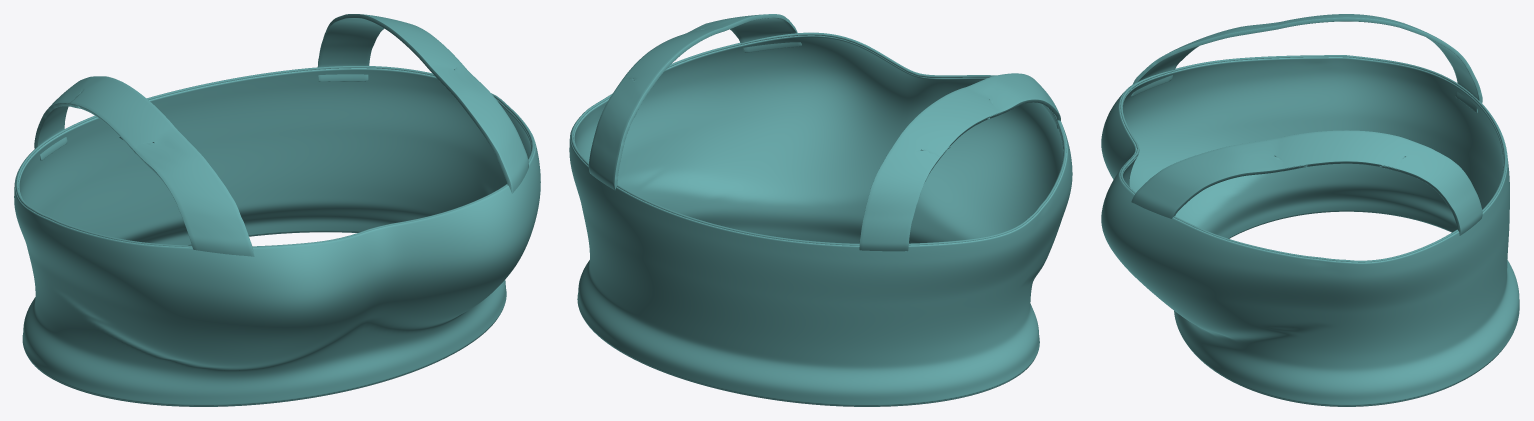
The model's file is Feminine-tank-top.glb.
The picture shows the model from 3 angles, left to right: view 1: azimuth 30°, elevation 25°; view 2: azimuth 150°, elevation 25°; view 3: azimuth 270°, elevation 25°; orthographic projection. The views are drawn at different scales.
Visible parts, largest first — view 1: Clothing / tank body, Clothing / tank strap -1, Clothing / tank strap 1, tank body / bound edge.001 export, tank body / bound edge export; view 2: Clothing / tank body, Clothing / tank strap -1, Clothing / tank strap 1, tank body / bound edge.001 export, tank body / bound edge export; view 3: Clothing / tank body, Clothing / tank strap 1, Clothing / tank strap -1, tank body / bound edge.001 export, tank body / bound edge export.
Part boxes in pixels (x1,y1,x2,y2): Clothing / tank body: (14,68,540,405); Clothing / tank strap -1: (34,76,254,256); Clothing / tank strap 1: (317,14,528,193); tank body / bound edge.001 export: (15,66,534,247); tank body / bound edge export: (29,231,495,406); Clothing / tank body: (569,32,1072,405); Clothing / tank strap -1: (859,73,1060,251); Clothing / tank strap 1: (588,14,801,190); tank body / bound edge.001 export: (571,32,1066,245); tank body / bound edge export: (589,327,1033,406); Clothing / tank body: (1101,57,1519,405); Clothing / tank strap 1: (1131,130,1482,235); Clothing / tank strap -1: (1131,14,1482,113); tank body / bound edge.001 export: (1120,55,1506,262); tank body / bound edge export: (1191,211,1501,406).
Size of the model in its own units: 0.6458 by 0.342 by 0.5516.
